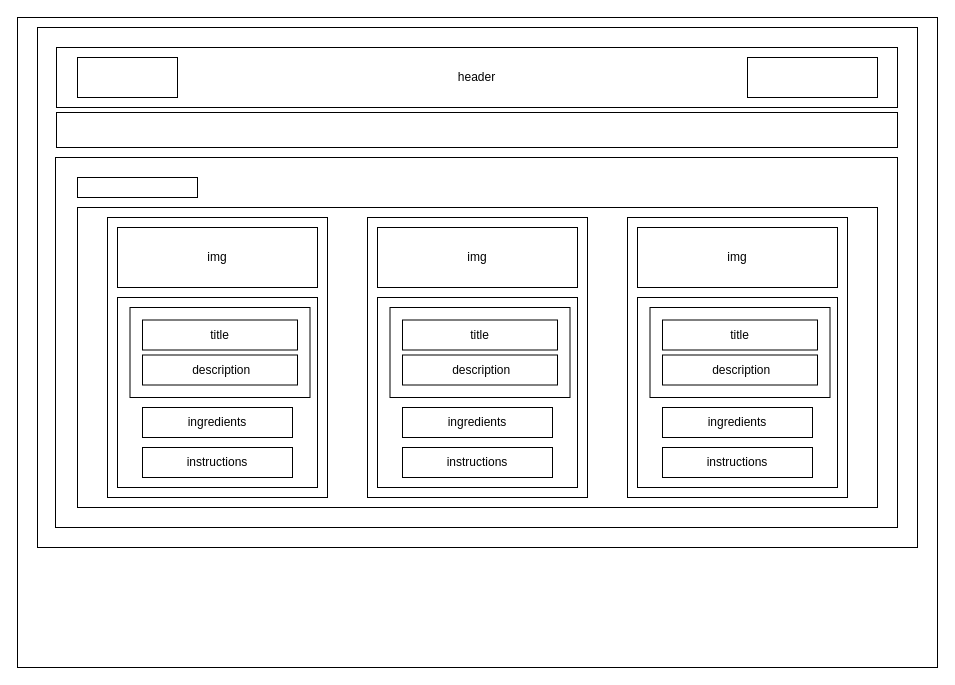
Image size: 955x685. Some labels were removed from this diagram. Here are the shapes that lost their labels. From the top down, the box of each, then its label:
(76, 56, 178, 98): logo
(746, 56, 878, 98): nav
(56, 112, 898, 148): heading
(76, 176, 198, 198): h2
